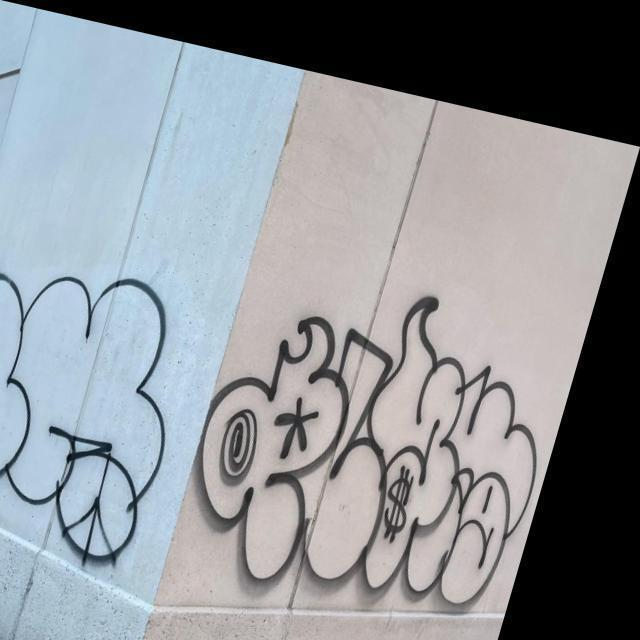nonspitting: (193, 292, 540, 612), (0, 274, 166, 574)
